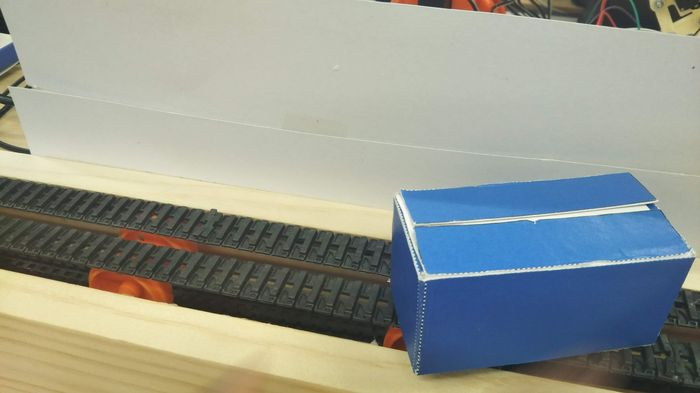box3: (387, 168, 694, 374)
